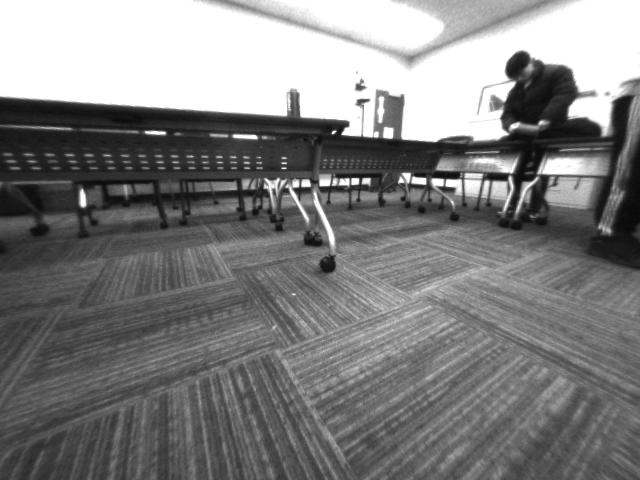can: (281, 84, 305, 121)
